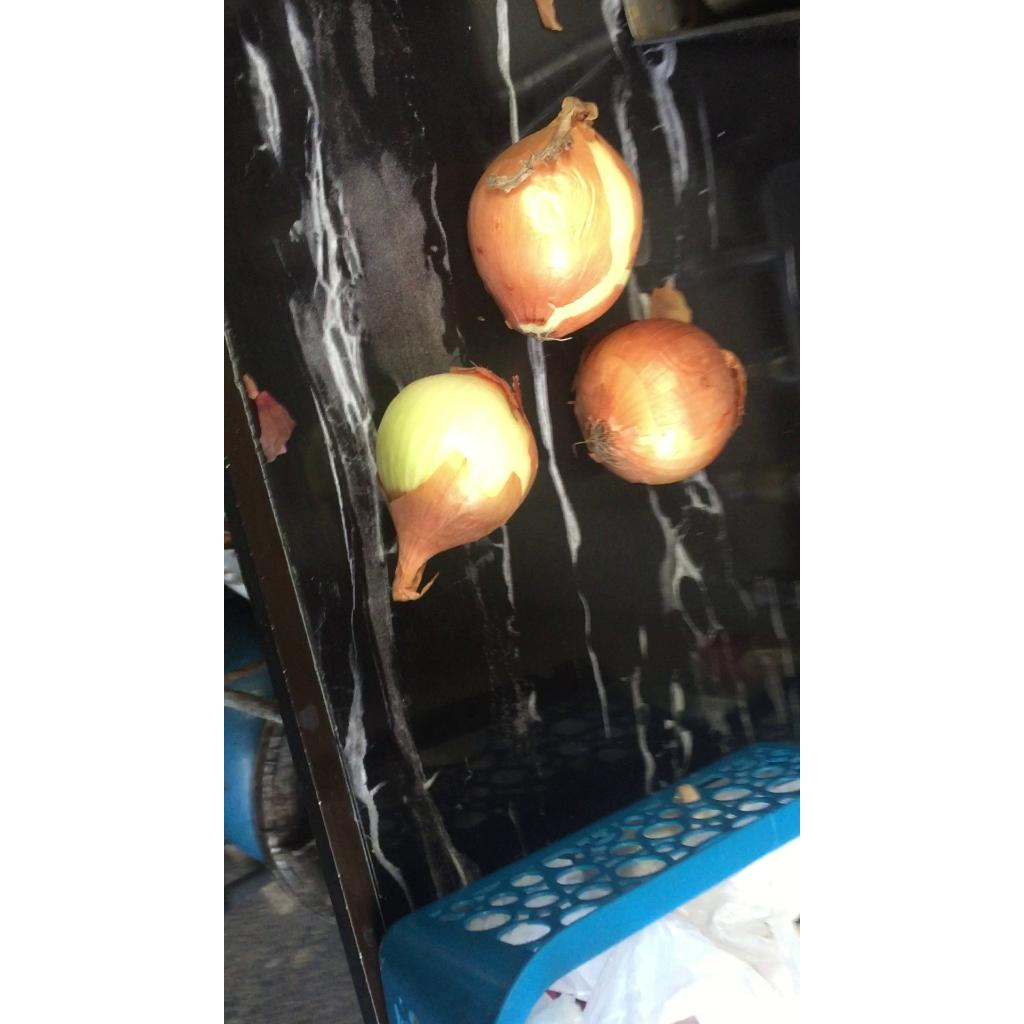Onion: (468, 95, 642, 339), (375, 367, 537, 602), (574, 318, 747, 485)
